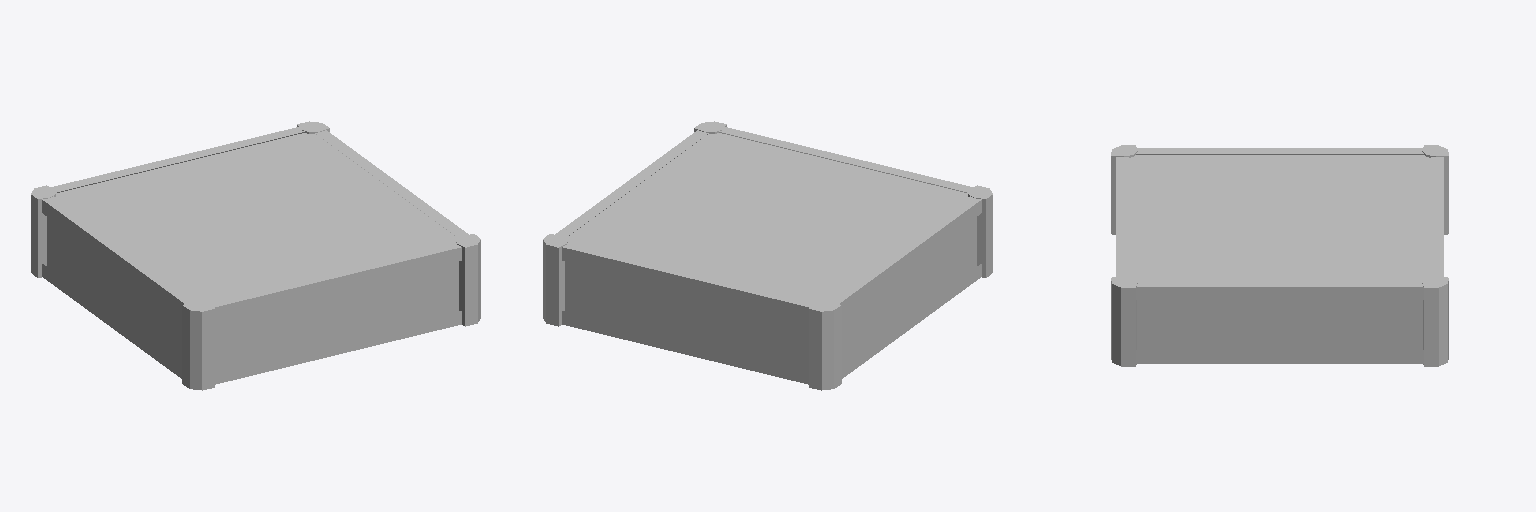
Rendered from stg600_obj_lightfloorA.obj.
The picture shows the model from 3 angles: view 1: azimuth 30°, elevation 25°; view 2: azimuth 150°, elevation 25°; view 3: azimuth 270°, elevation 25°; orthographic projection.
Visible parts, largest first — view 1: polygon0, polygon2, polygon1; view 2: polygon0, polygon2, polygon1; view 3: polygon0, polygon2, polygon1.
Boxes of the visible parts, x1=… form: polygon0: x1=55, y1=133, x2=456, y2=302; polygon2: x1=31, y1=121, x2=480, y2=390; polygon1: x1=47, y1=217, x2=458, y2=370; polygon0: x1=567, y1=133, x2=968, y2=302; polygon2: x1=543, y1=121, x2=992, y2=390; polygon1: x1=565, y1=217, x2=976, y2=370; polygon0: x1=1129, y1=155, x2=1430, y2=280; polygon2: x1=1111, y1=145, x2=1448, y2=366; polygon1: x1=1137, y1=300, x2=1422, y2=349.
Bounding box in the file's own units: 20.56 × 5.3 × 20.56.